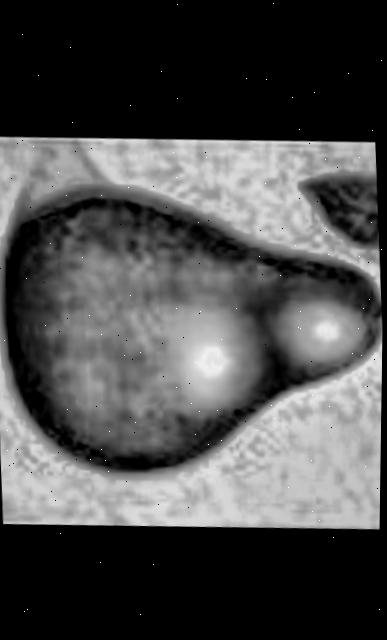La Pera: (0, 116, 386, 541)
